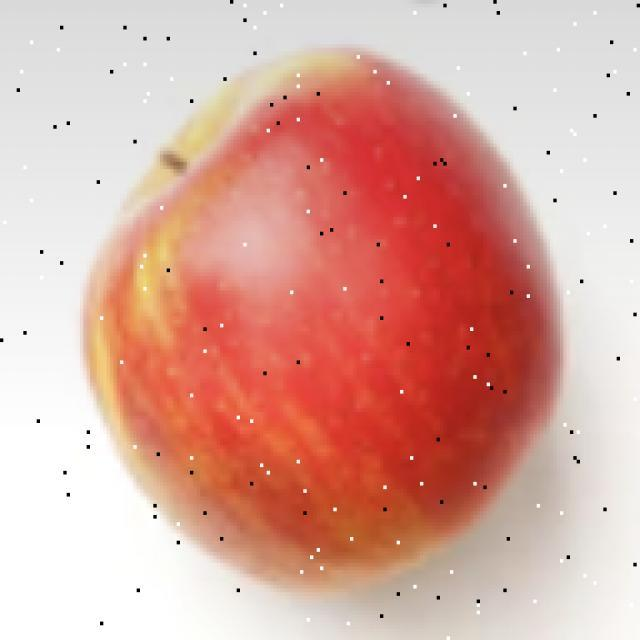Fresh Apple: (81, 56, 583, 640)
